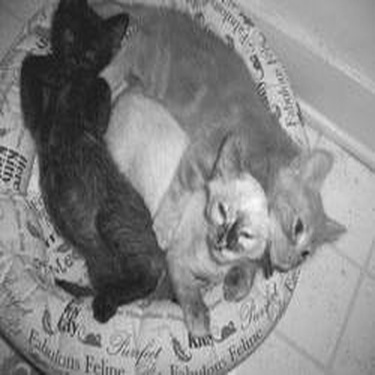cat: (14, 4, 169, 319), (159, 117, 278, 345), (270, 129, 351, 271)
